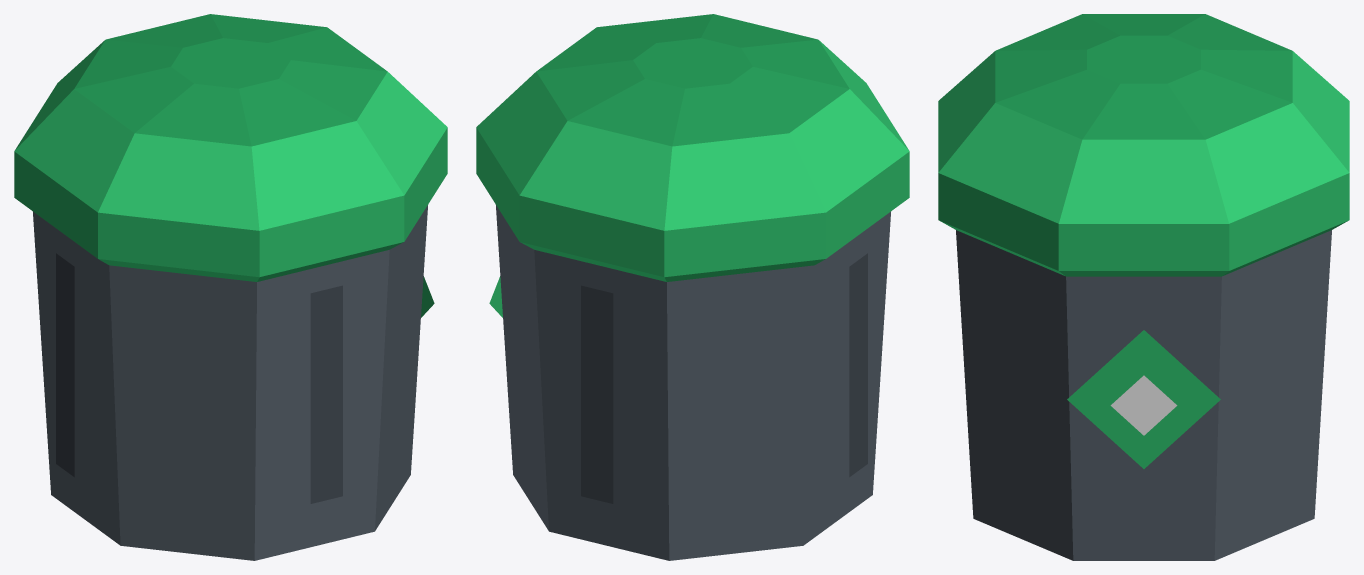
Rendered from trash_bin.glb.
The picture shows the model from 3 angles, left to right: view 1: azimuth 30°, elevation 25°; view 2: azimuth 150°, elevation 25°; view 3: azimuth 270°, elevation 25°; orthographic projection.
Parts seen in each view (by area): view 1: trash_bin; view 2: trash_bin; view 3: trash_bin.
Part boxes in pixels (left/top/right/bottom): trash_bin: left=14, top=14, right=447, bottom=560; trash_bin: left=476, top=14, right=909, bottom=560; trash_bin: left=938, top=14, right=1349, bottom=560.
Bounding box in the file's own units: 0.0876 × 0.1 × 0.0868.
